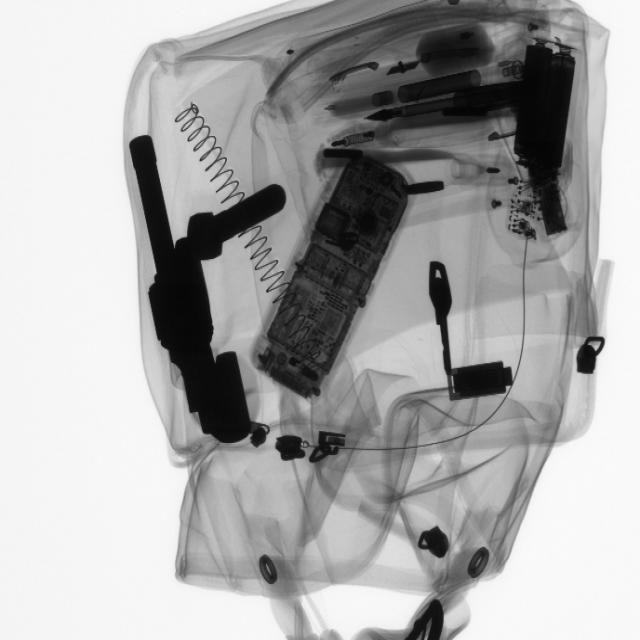GUN: (123, 132, 240, 446)
